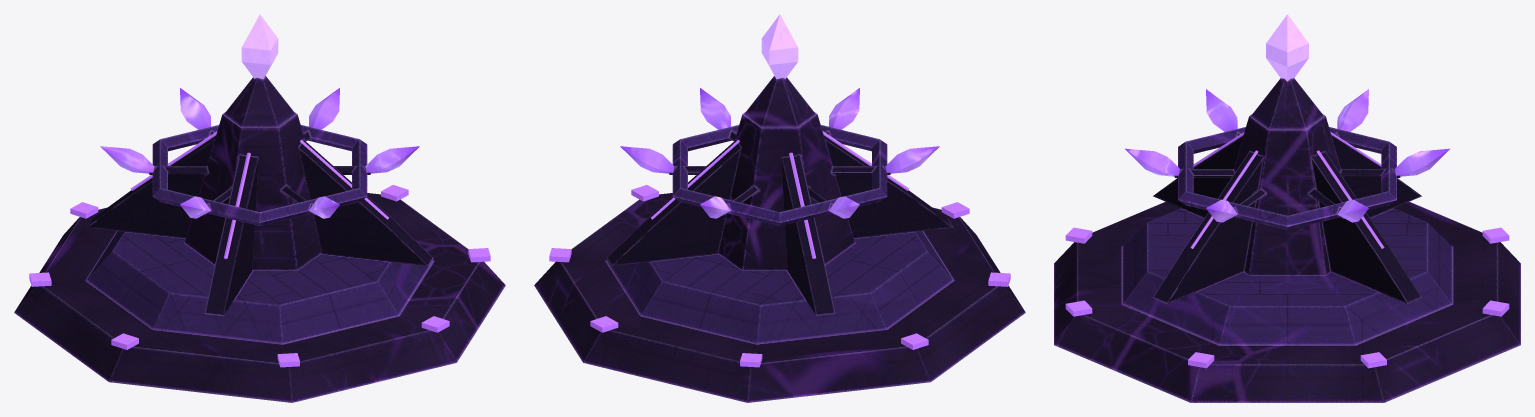
The model's file is turret.glb.
3 views of the same model, side by side, from view 1: azimuth 30°, elevation 25°; view 2: azimuth 150°, elevation 25°; view 3: azimuth 270°, elevation 25° (orthographic).
Visible parts, largest first — view 1: Turret, ring, lens; view 2: Turret, ring, lens; view 3: Turret, ring, lens.
Part boxes in pixels (x1,y1,x2,y2): Turret: (14, 76, 505, 402); ring: (100, 88, 419, 225); lens: (241, 14, 278, 79); Turret: (534, 76, 1025, 402); ring: (620, 88, 939, 225); lens: (761, 14, 798, 79); Turret: (1054, 78, 1520, 402); ring: (1125, 89, 1449, 229); lens: (1266, 14, 1308, 81).
Bounding box in the file's own units: 2.07 × 1.42 × 2.07.
5 materials, 5 textured.
